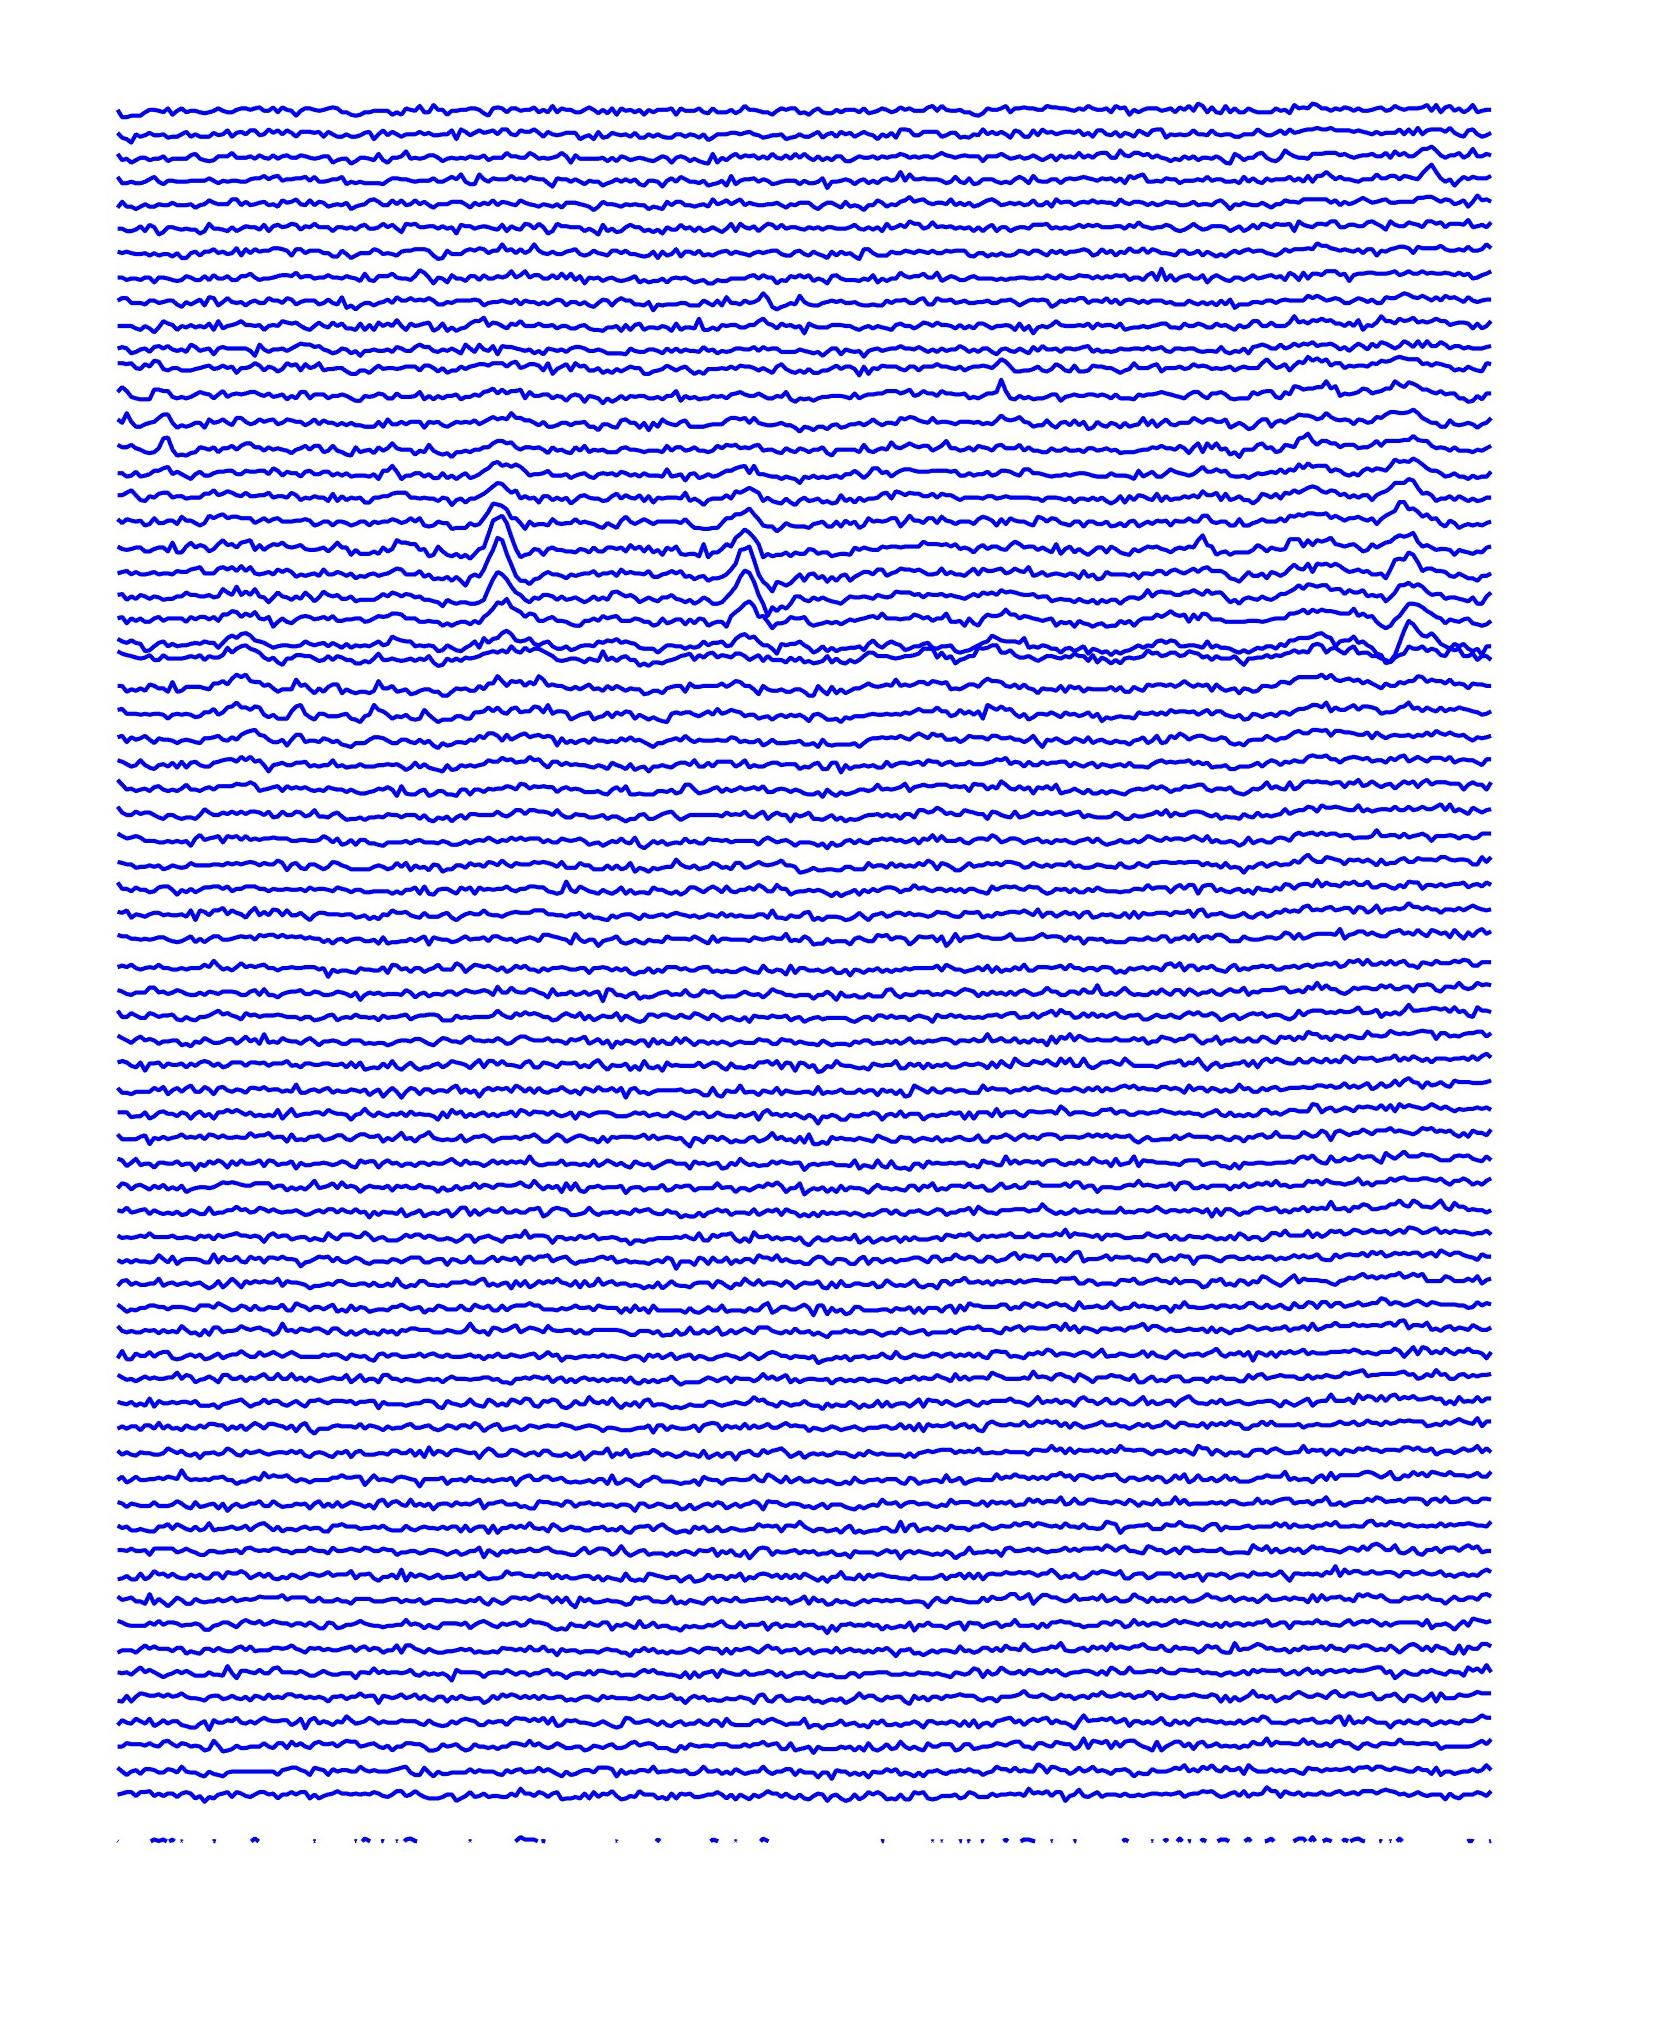defect: (1374, 453, 1426, 674), (461, 507, 529, 633), (717, 514, 770, 648)
